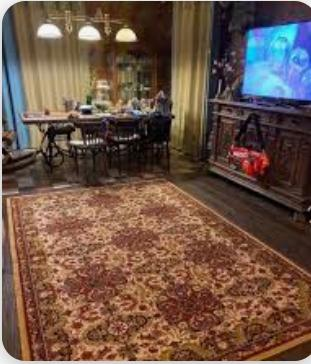carpet: (11, 182, 310, 360)
